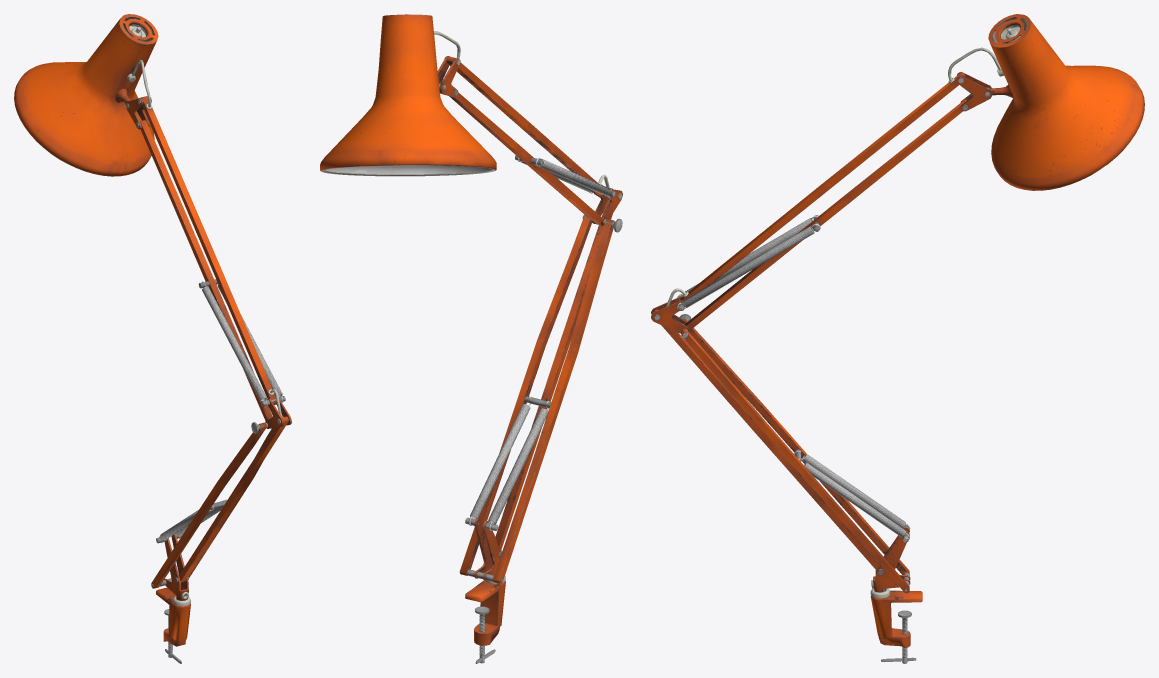
The model's file is desk_lamp_arm_01.glb.
3 renders of one model, left to right at view 1: azimuth 30°, elevation 25°; view 2: azimuth 150°, elevation 25°; view 3: azimuth 270°, elevation 25°, orthographic. The views are drawn at different scales.
Parts seen in each view (by area): view 1: desk_lamp_arm_01; view 2: desk_lamp_arm_01; view 3: desk_lamp_arm_01.
Boxes of the visible parts, x1=… form: desk_lamp_arm_01: x1=14, y1=14, x2=291, y2=663; desk_lamp_arm_01: x1=320, y1=14, x2=622, y2=663; desk_lamp_arm_01: x1=651, y1=14, x2=1144, y2=663.
Size of the model in its own units: 0.2017 by 0.8926 by 0.6139.
2 materials, 2 textured.
